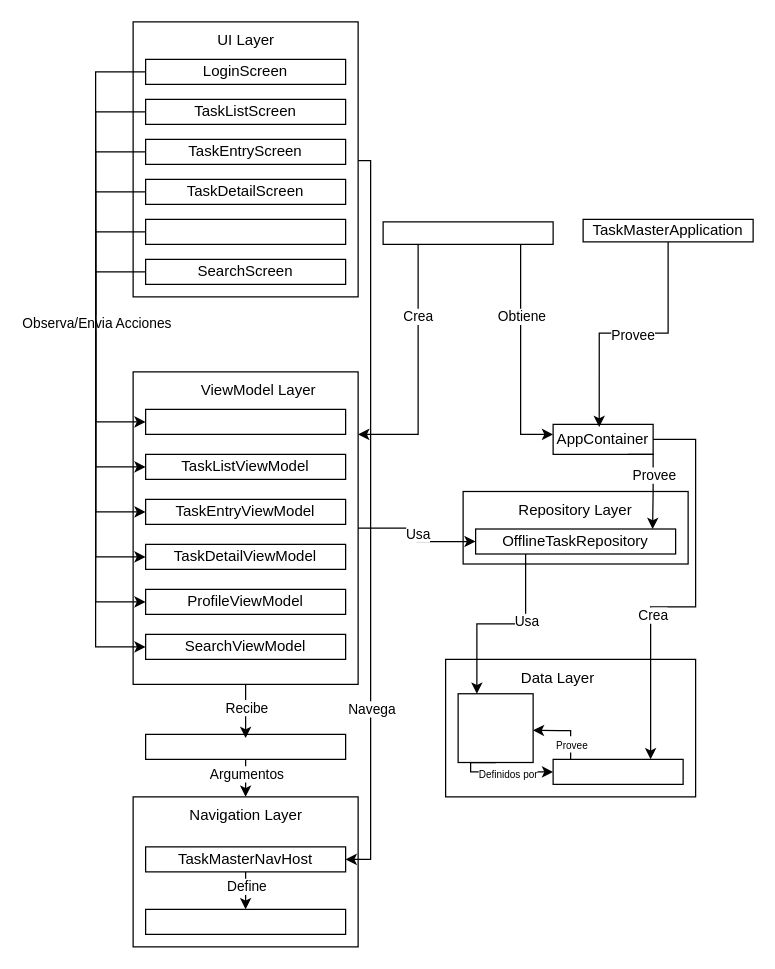
The diagram is 775 pixels wide and 969 high, and some of its shapes have lost their labels. The box of each missing label's shape, as (x1, y1, x2, y2) in pixels:
AppViewModelProvider: (382, 221, 553, 244)
DAOs: UserDao TaskDao: (457, 692, 533, 762)
LoginViewModel: (144, 408, 346, 434)
NavigationDestination: (144, 908, 346, 934)
ProfileScreen: (144, 218, 346, 244)
SaveStateHandle: (144, 733, 346, 759)
TaskMasterDatabase: (552, 758, 683, 784)
